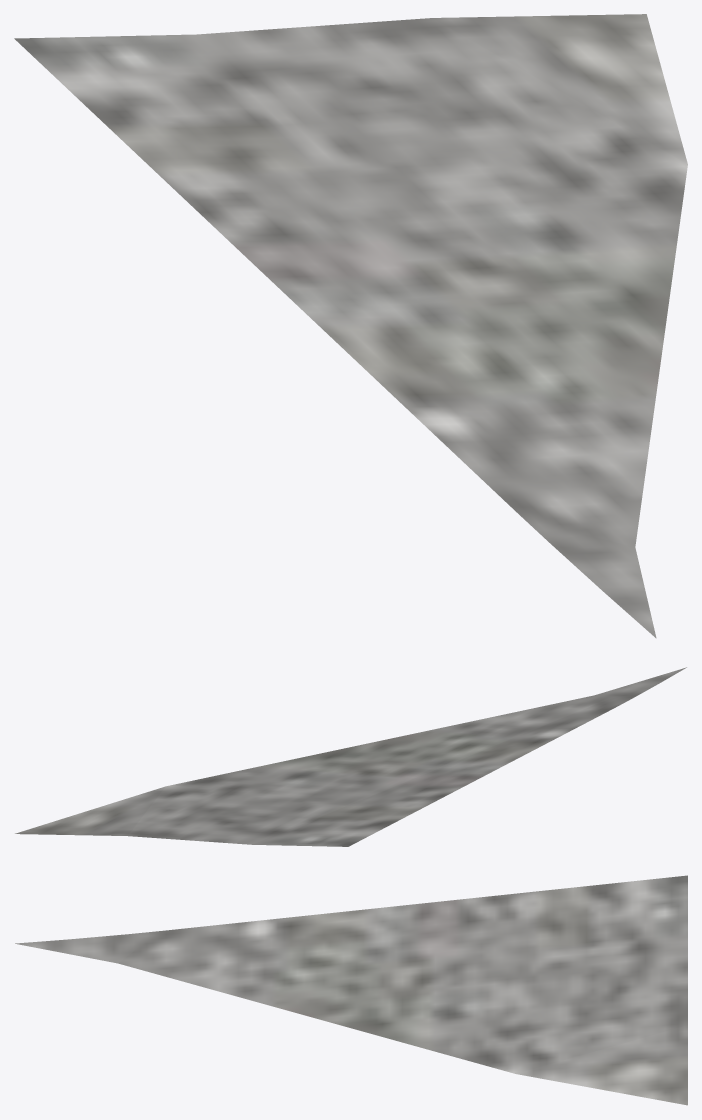
The picture shows the model from 3 angles, top to bottom: view 1: azimuth 30°, elevation 25°; view 2: azimuth 150°, elevation 25°; view 3: azimuth 270°, elevation 25°; orthographic projection. The views are drawn at different scales.
Bounding box in the file's own units: 0.1864 × 0.0366 × 0.3279.
Materials: 1 (1 with a texture image).
